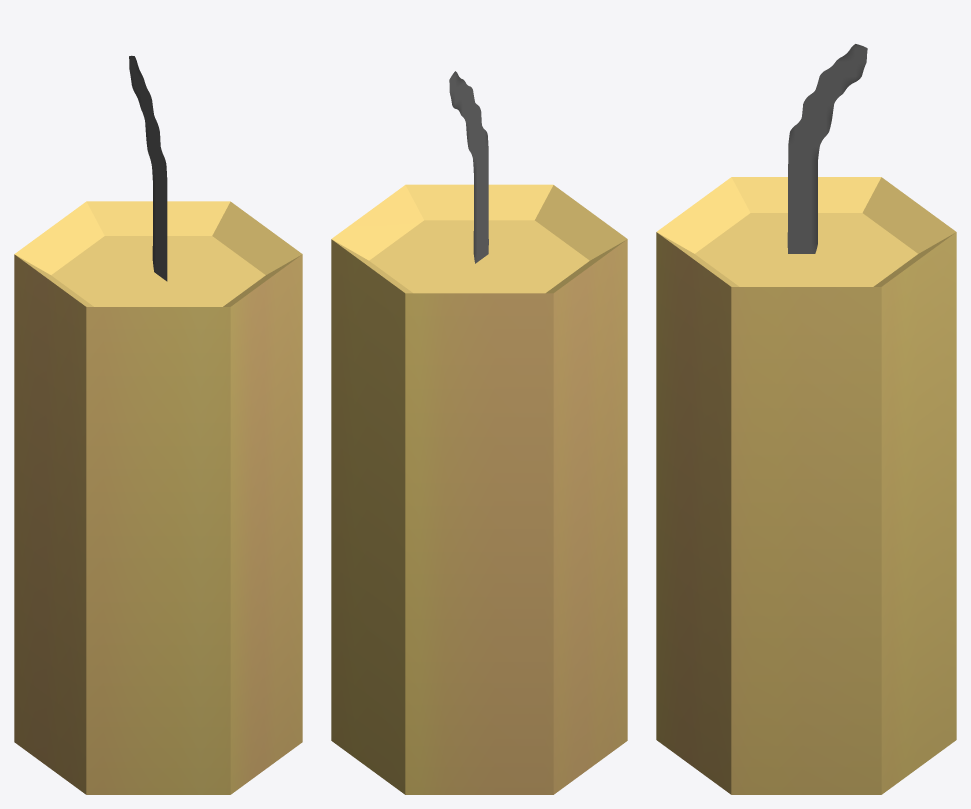
The model's file is CandleUnlit.fbx.
3 views of the same model, side by side, from view 1: azimuth 30°, elevation 25°; view 2: azimuth 150°, elevation 25°; view 3: azimuth 270°, elevation 25° (orthographic). The views are drawn at different scales.
Visible parts, largest first — view 1: Cube.007; view 2: Cube.007; view 3: Cube.007.
Boxes of the visible parts, bbox=[...] form: Cube.007: bbox=[14, 55, 302, 794]; Cube.007: bbox=[331, 71, 627, 794]; Cube.007: bbox=[656, 44, 956, 794].
Size of the model in its own units: 9.85 by 30.35 by 11.38.
